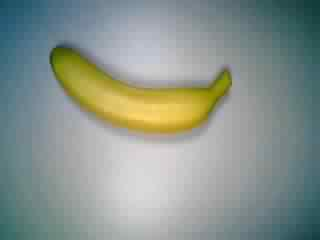banana: (42, 38, 236, 142)
